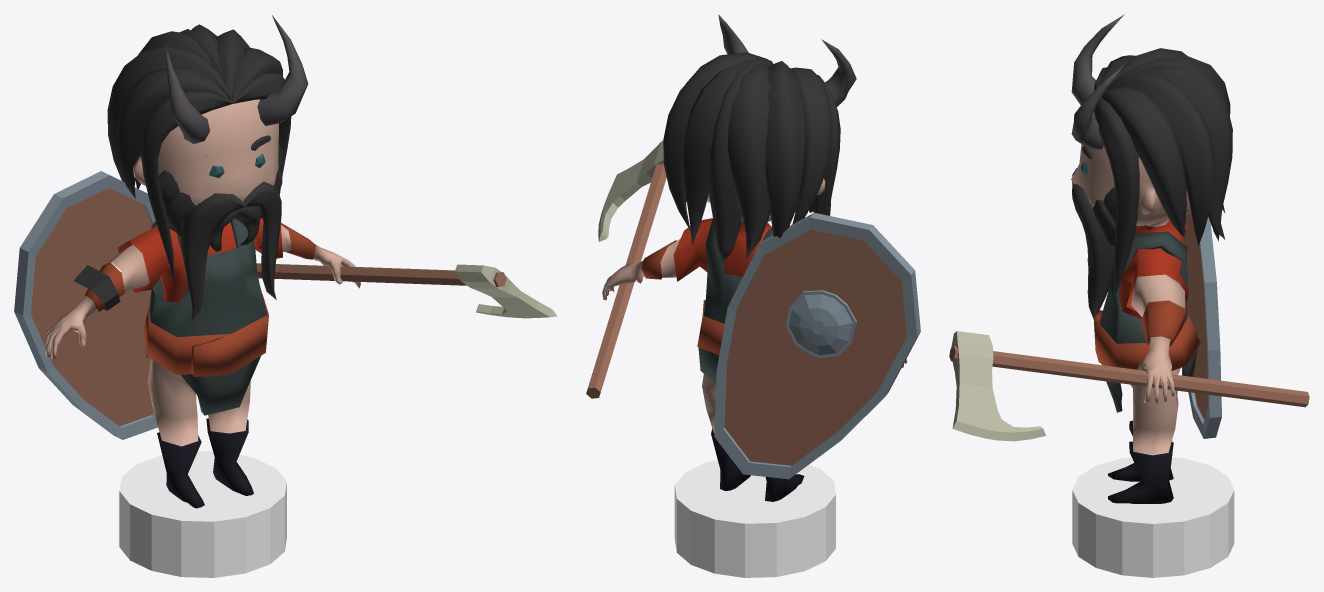
The model's file is jupiter.glb.
3 renders of one model, left to right at view 1: azimuth 30°, elevation 25°; view 2: azimuth 150°, elevation 25°; view 3: azimuth 270°, elevation 25°, orthographic. The views are drawn at different scales.
Parts seen in each view (by area): view 1: BODY.004; view 2: BODY.004; view 3: BODY.004.
Boxes of the visible parts, left/top/right/bottom form: BODY.004: left=14, top=15, right=557, bottom=577; BODY.004: left=586, top=14, right=920, bottom=577; BODY.004: left=949, top=14, right=1309, bottom=577.
Size of the model in its own units: 1.54 by 1.81 by 1.17.
1 material, 1 textured.
